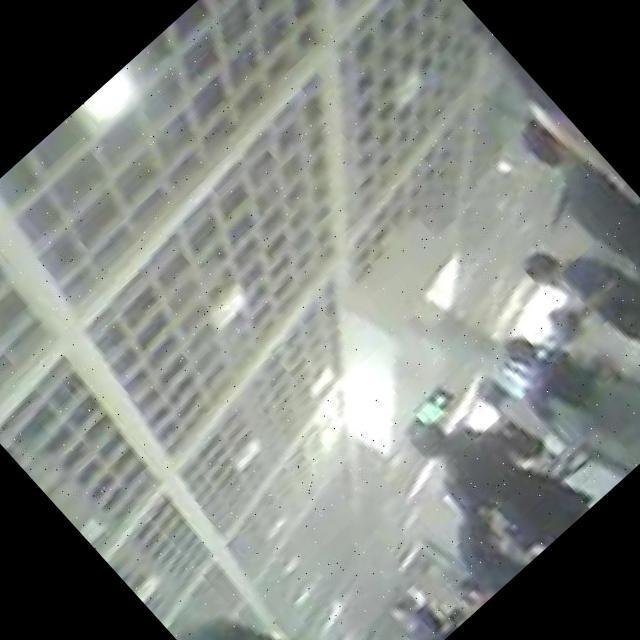person: (390, 362, 600, 576), (439, 0, 640, 219), (506, 103, 640, 386), (514, 183, 640, 435), (490, 303, 640, 488), (533, 257, 640, 450), (173, 576, 362, 640)
